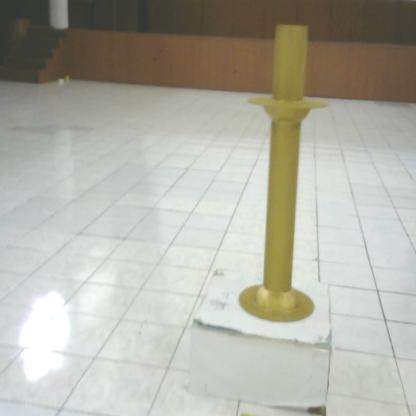pole: (232, 16, 350, 335)
